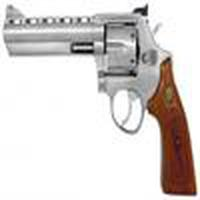gun: (2, 3, 200, 195)
